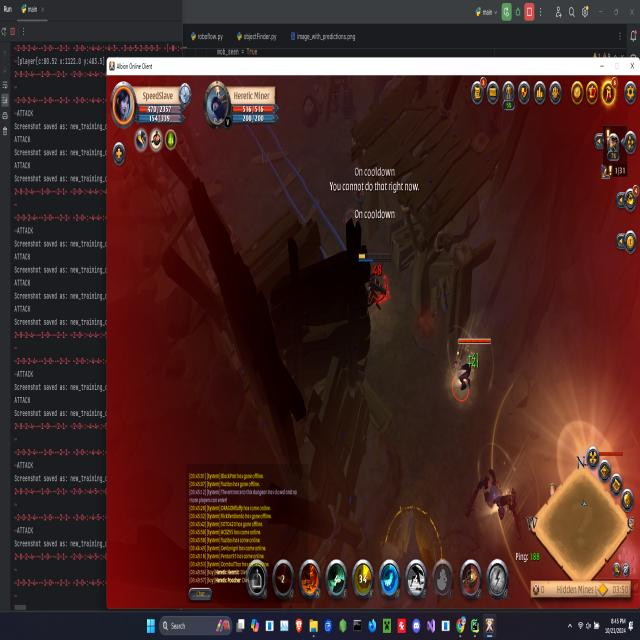ore: (464, 457, 525, 544), (598, 447, 624, 462)
red: (452, 336, 484, 404), (360, 250, 392, 314)
